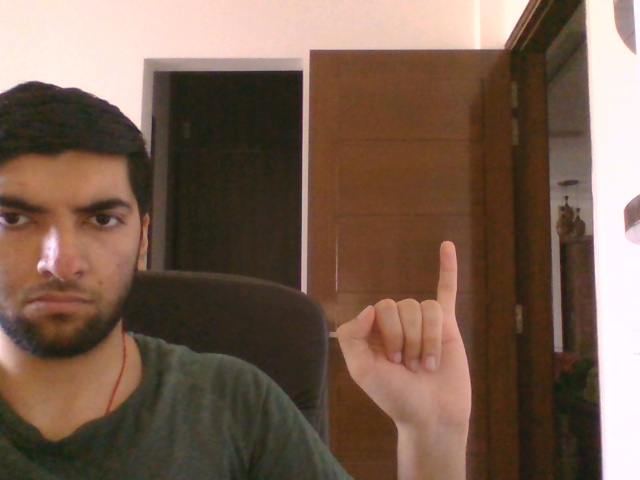LetterI: (335, 240, 473, 433)
